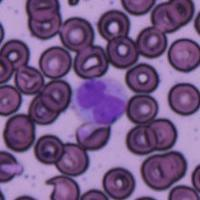M: (70, 76, 128, 126)
